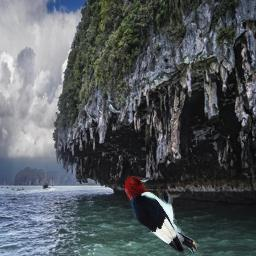Woodpecker: (125, 175, 200, 256)
